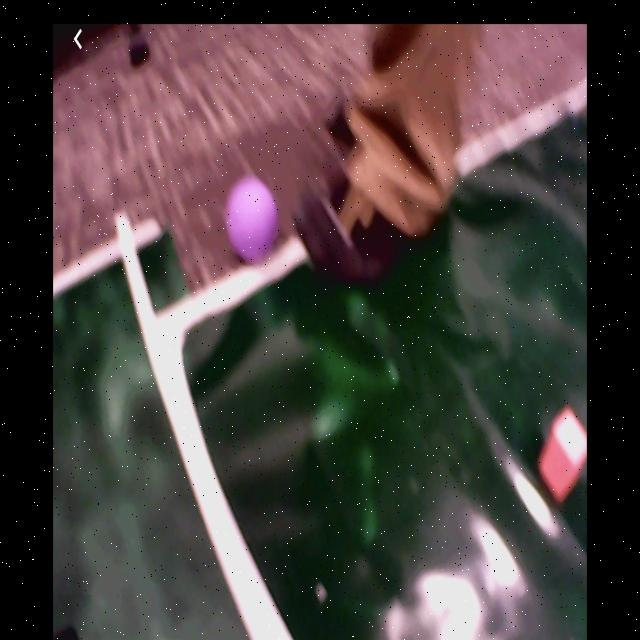ball: (227, 179, 279, 260)
